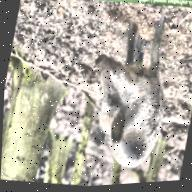boar: (72, 15, 185, 184)
